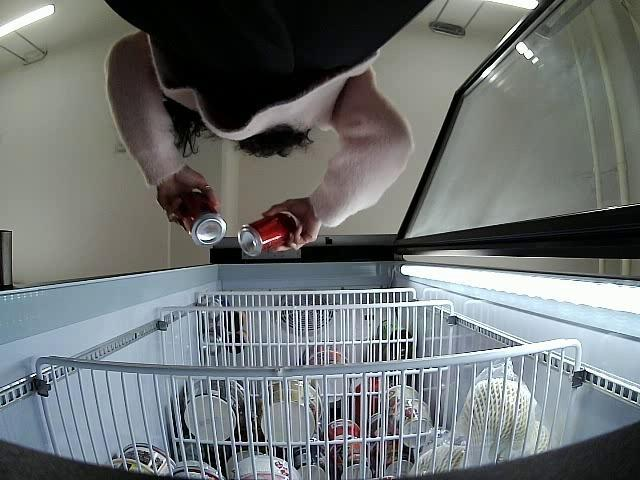11_cocaColaZero: (176, 192, 227, 248), (239, 213, 298, 256)
